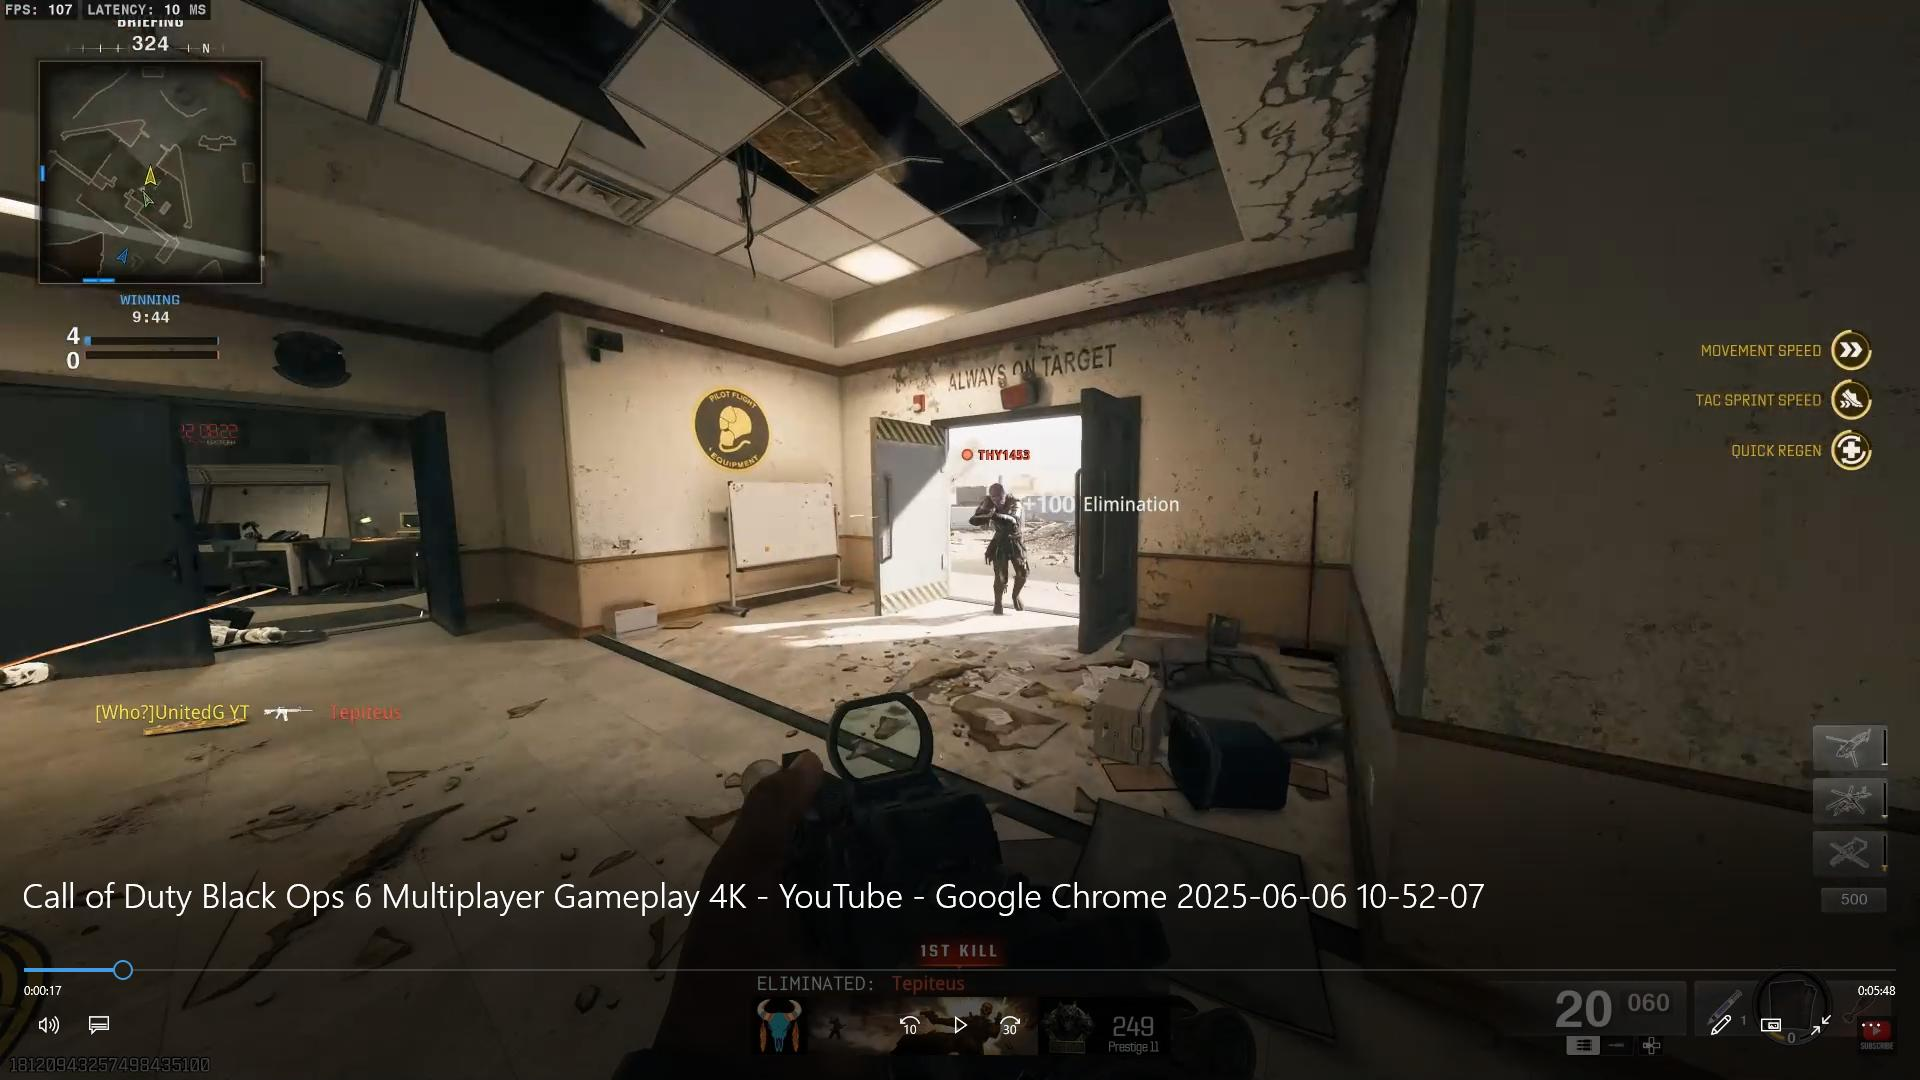Enemy: (955, 433, 1040, 613)
